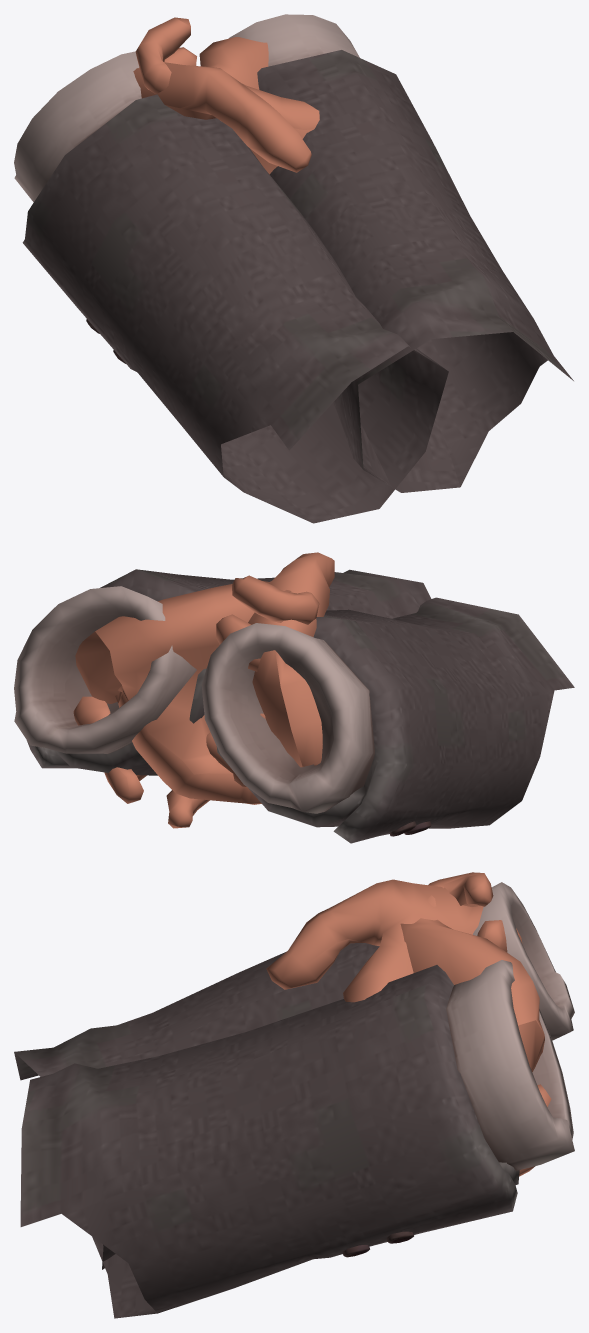
File: maos_volante.glb
3 renders of one model, top to bottom at view 1: azimuth 30°, elevation 25°; view 2: azimuth 150°, elevation 25°; view 3: azimuth 270°, elevation 25°, orthographic. The views are drawn at different scales.
Parts seen in each view (by area): view 1: MaoEsq, MaoDir; view 2: MaoEsq, MaoDir; view 3: MaoDir, MaoEsq.
Part boxes in pixels (x1,y1,x2,y2): MaoEsq: [14, 51, 448, 523]; MaoDir: [135, 14, 573, 492]; MaoEsq: [73, 552, 574, 843]; MaoDir: [14, 569, 431, 804]; MaoDir: [20, 872, 574, 1318]; MaoEsq: [14, 879, 574, 1269].
Bounding box in the file's own units: 0.2144 × 0.2001 × 0.2656.
2 materials, 2 textured.
